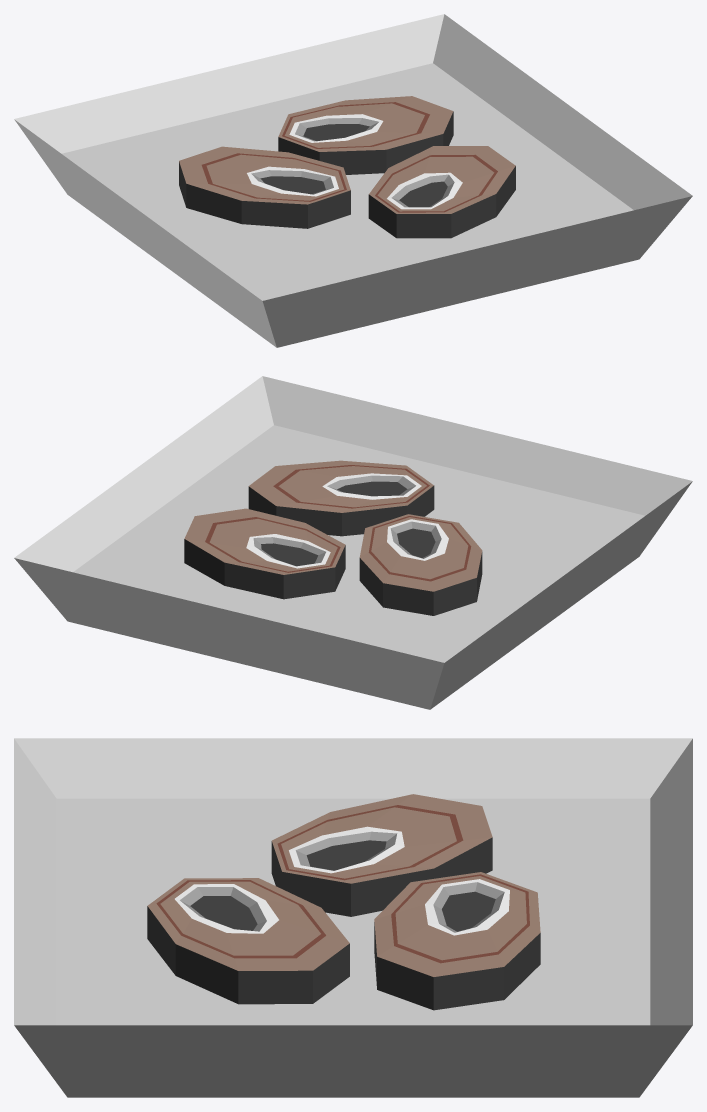
Rendered from Bangus Sliced on Plate.fbx.
The picture shows the model from 3 angles, top to bottom: view 1: azimuth 30°, elevation 25°; view 2: azimuth 150°, elevation 25°; view 3: azimuth 270°, elevation 25°; orthographic projection. The views are drawn at different scales.
Parts seen in each view (by area): view 1: Bangus Sliced on Plate; view 2: Bangus Sliced on Plate; view 3: Bangus Sliced on Plate.
Boxes of the visible parts, bbox=[...] form: Bangus Sliced on Plate: bbox=[14, 14, 692, 347]; Bangus Sliced on Plate: bbox=[14, 376, 692, 709]; Bangus Sliced on Plate: bbox=[14, 738, 692, 1097].
Bounding box in the file's own units: 124 × 19.16 × 124.
